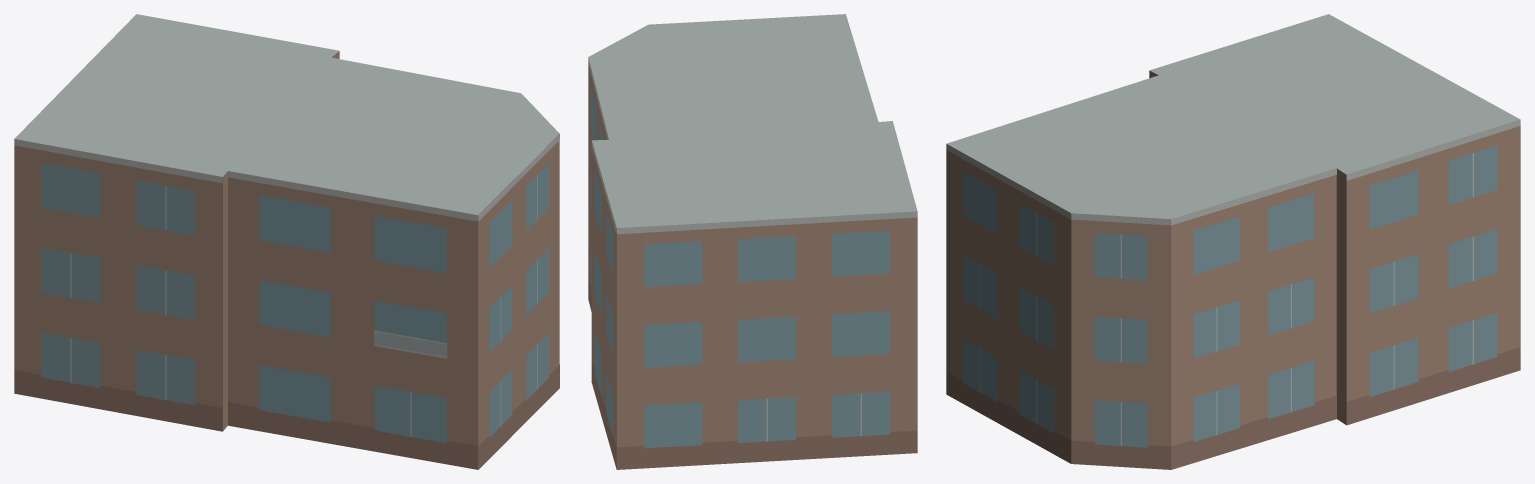
The model's file is survey-upis-32656855.glb.
3 renders of one model, left to right at view 1: azimuth 30°, elevation 25°; view 2: azimuth 150°, elevation 25°; view 3: azimuth 270°, elevation 25°, orthographic. The views are drawn at different scales.
Parts seen in each view (by area): view 1: survey-upis-32656855.tmp; view 2: survey-upis-32656855.tmp; view 3: survey-upis-32656855.tmp.
Boxes of the visible parts, <box> form: survey-upis-32656855.tmp: <box>14,14,559,469</box>; survey-upis-32656855.tmp: <box>588,14,917,469</box>; survey-upis-32656855.tmp: <box>946,14,1520,469</box>.
Bounding box in the file's own units: 17.03 × 9.7 × 20.15.
